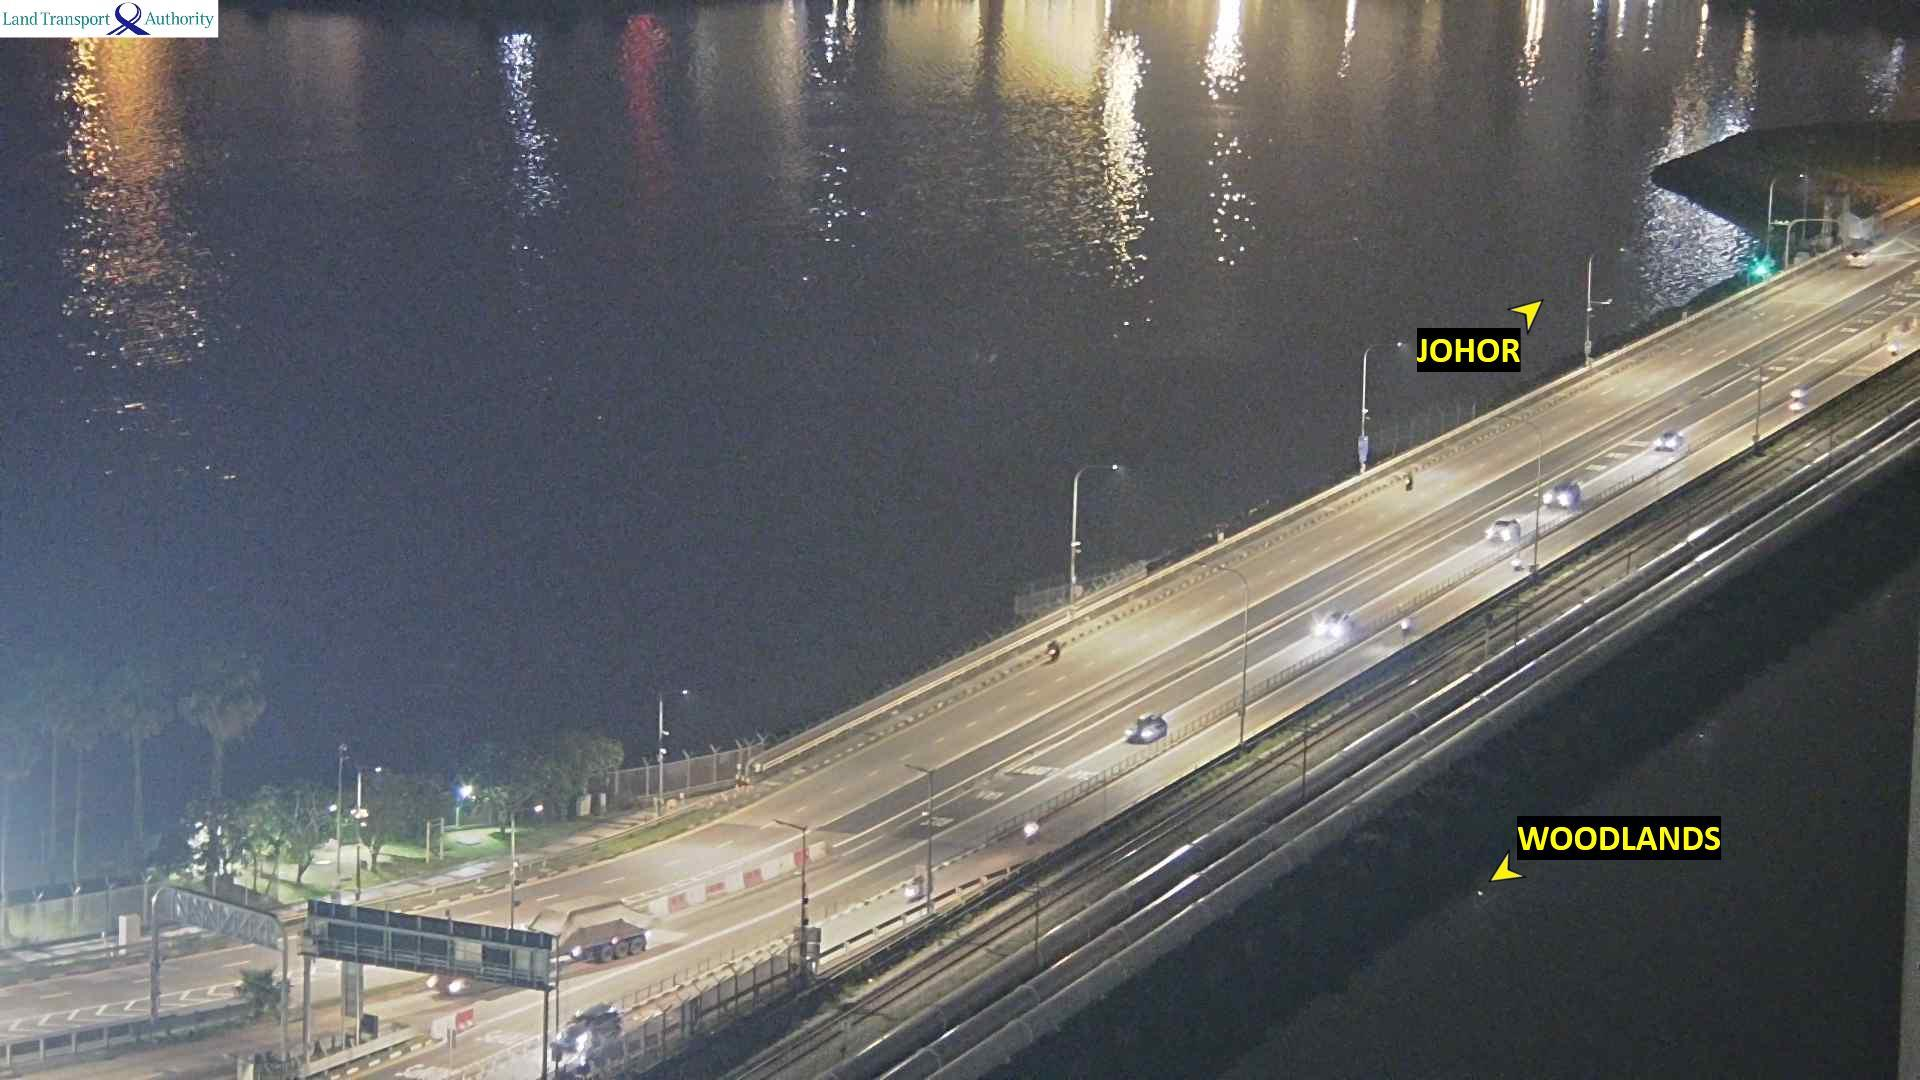vehicle-causeway-johor: (1849, 251, 1872, 268), (1047, 639, 1060, 658), (1406, 472, 1414, 490)
vehicle-causeway-singapore: (426, 902, 649, 998), (1311, 610, 1352, 640), (1127, 712, 1168, 741), (1486, 516, 1521, 545), (1545, 480, 1581, 506), (1654, 430, 1685, 453), (907, 865, 926, 897), (1022, 820, 1039, 842), (1397, 616, 1412, 636), (1511, 550, 1525, 569), (1790, 387, 1807, 400), (1788, 400, 1803, 414)
